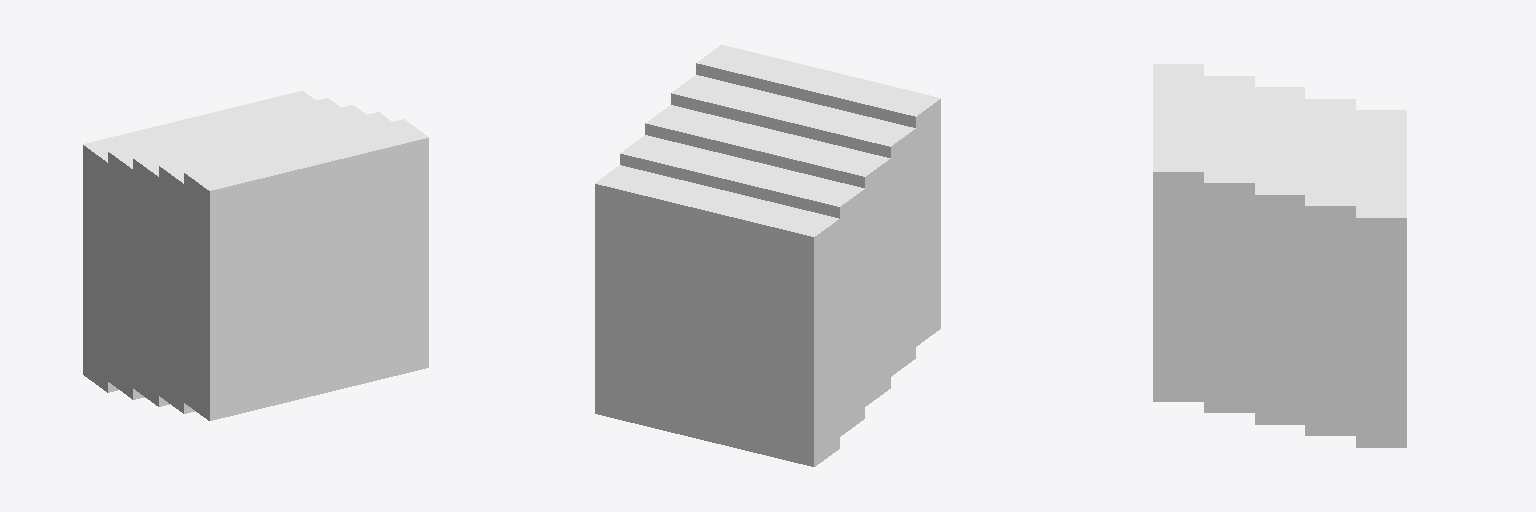
File: escalera_hierba.obj
3 renders of one model, left to right at view 1: azimuth 30°, elevation 25°; view 2: azimuth 150°, elevation 25°; view 3: azimuth 270°, elevation 25°, orthographic.
Visible parts, largest first — view 1: object 1; view 2: object 1; view 3: object 1.
Boxes of the visible parts, x1=… form: object 1: x1=83, y1=91, x2=428, y2=420; object 1: x1=595, y1=45, x2=940, y2=466; object 1: x1=1153, y1=64, x2=1406, y2=447.
Bounding box in the file's own units: 4 × 4.8 × 4.